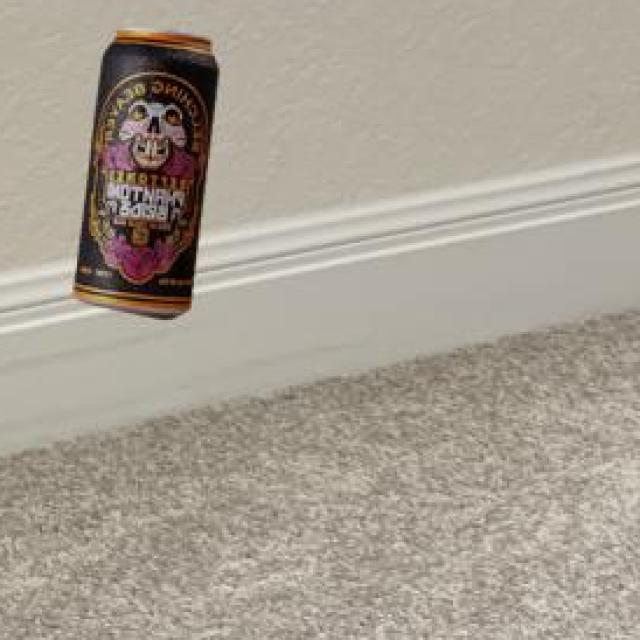logam: (78, 25, 221, 316)
